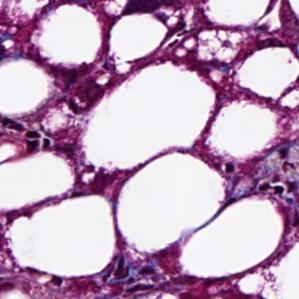inflammation: (253, 145, 299, 197), (108, 258, 159, 293), (19, 127, 56, 157)
